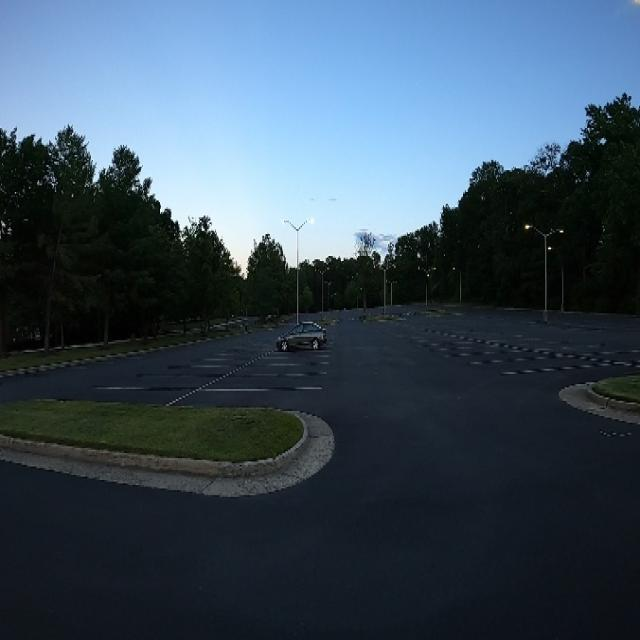Cars: (285, 326, 332, 354)
